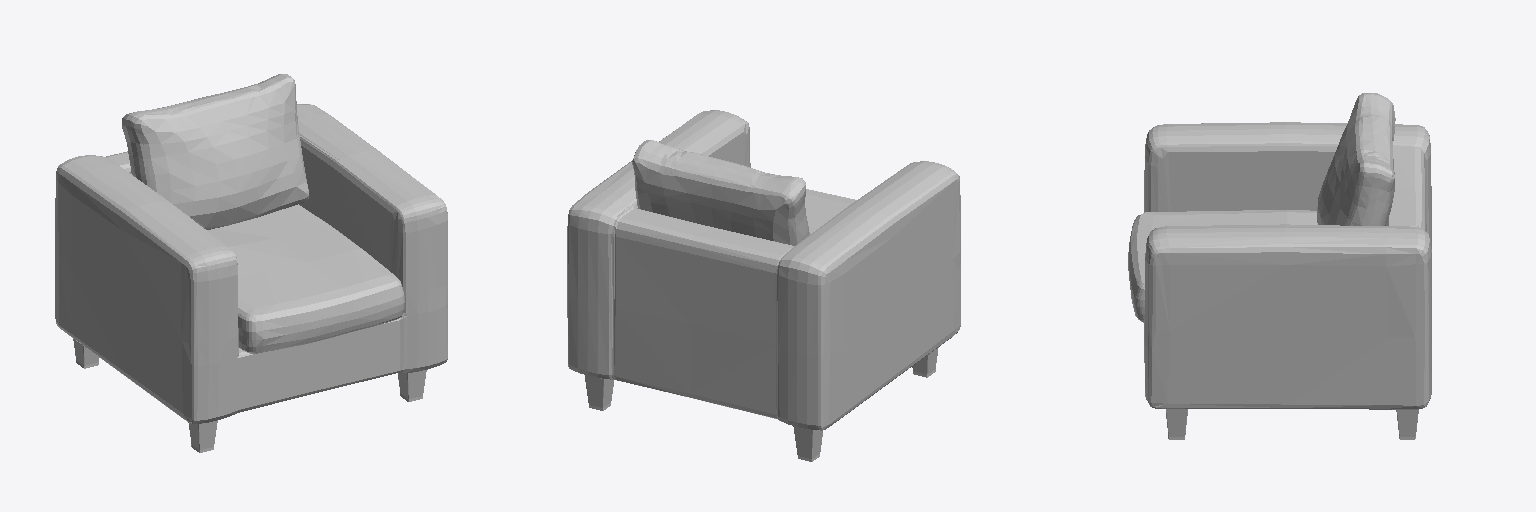
The model's file is sofa.obj.
The picture shows the model from 3 angles: view 1: azimuth 30°, elevation 25°; view 2: azimuth 150°, elevation 25°; view 3: azimuth 270°, elevation 25°; orthographic projection.
Parts seen in each view (by area): view 1: SM_Couch_1seat; view 2: SM_Couch_1seat; view 3: SM_Couch_1seat.
Part boxes in pixels (x1,y1,x2,y2): SM_Couch_1seat: (55,74,447,452); SM_Couch_1seat: (567,110,960,461); SM_Couch_1seat: (1128,93,1431,439).
Size of the model in its own units: 892 by 846 by 902.